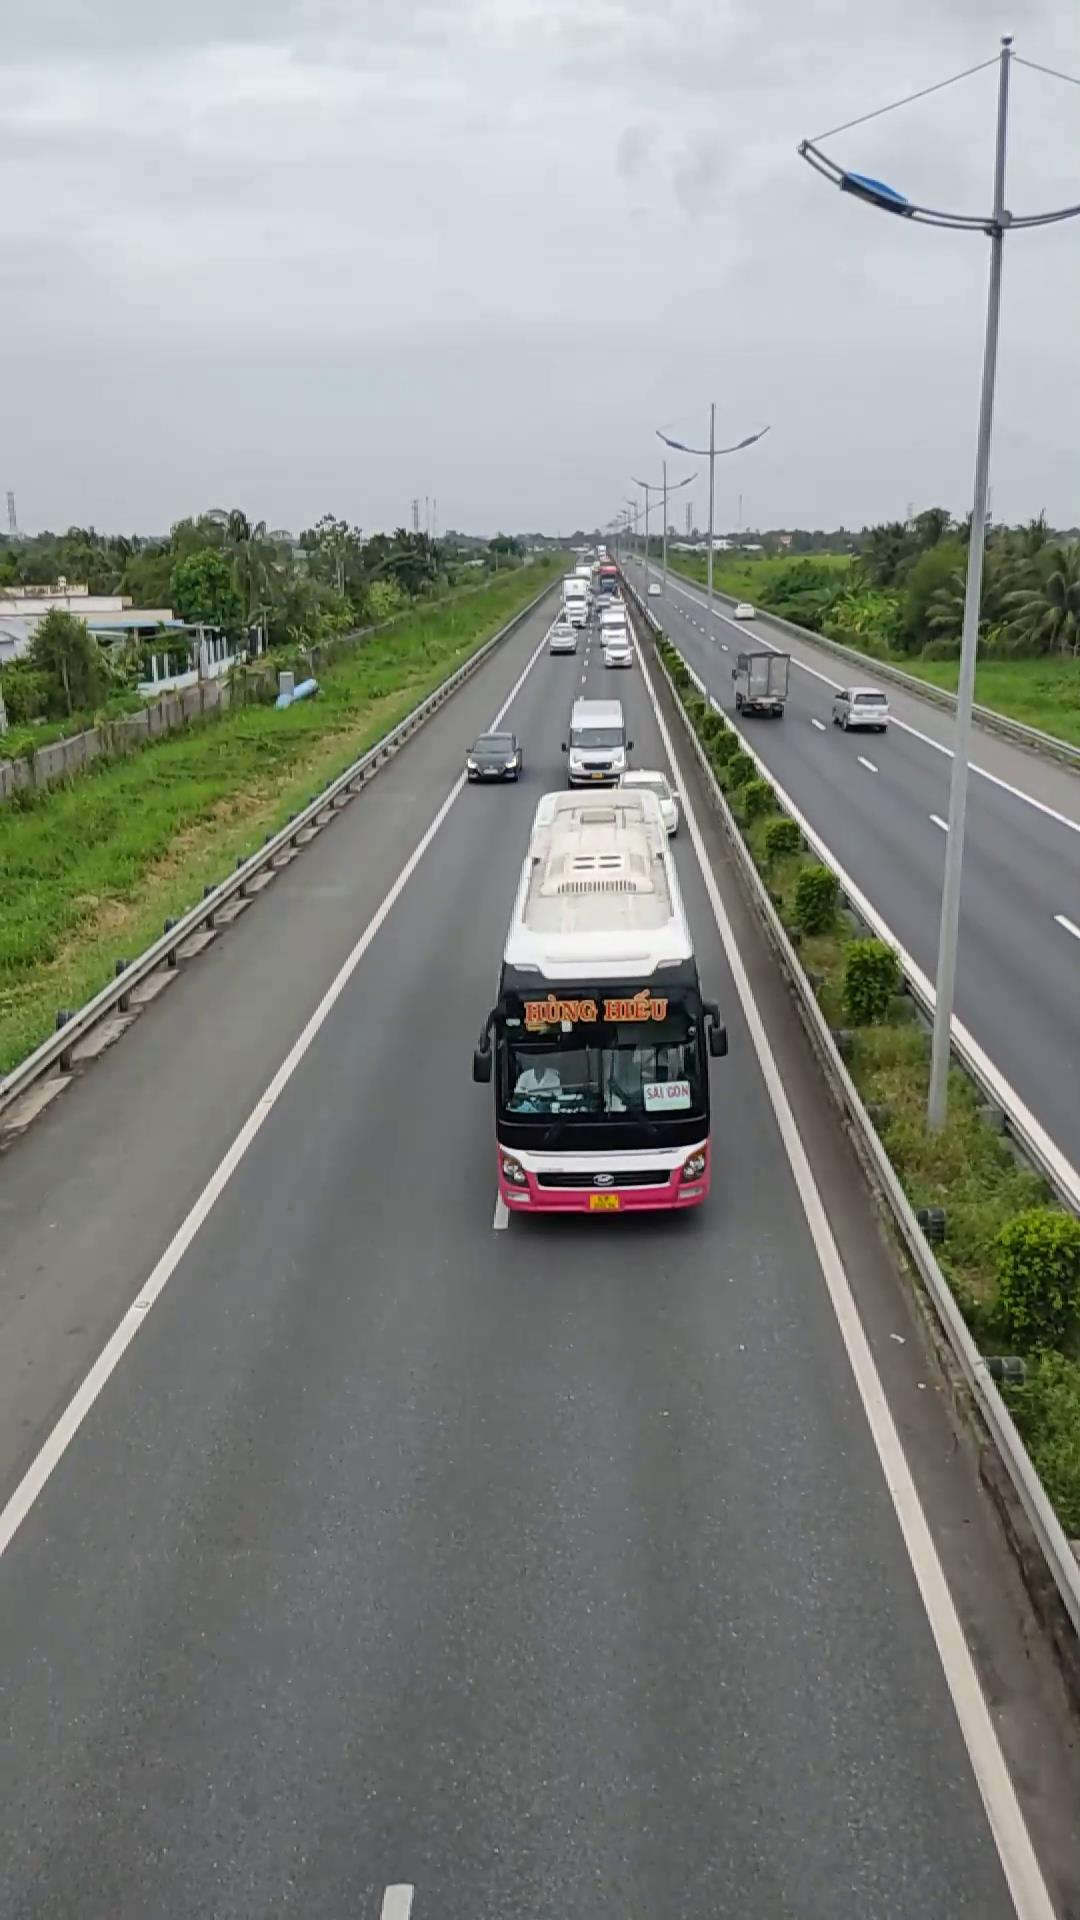bus: (473, 771, 723, 1220)
truck: (731, 645, 789, 716)
